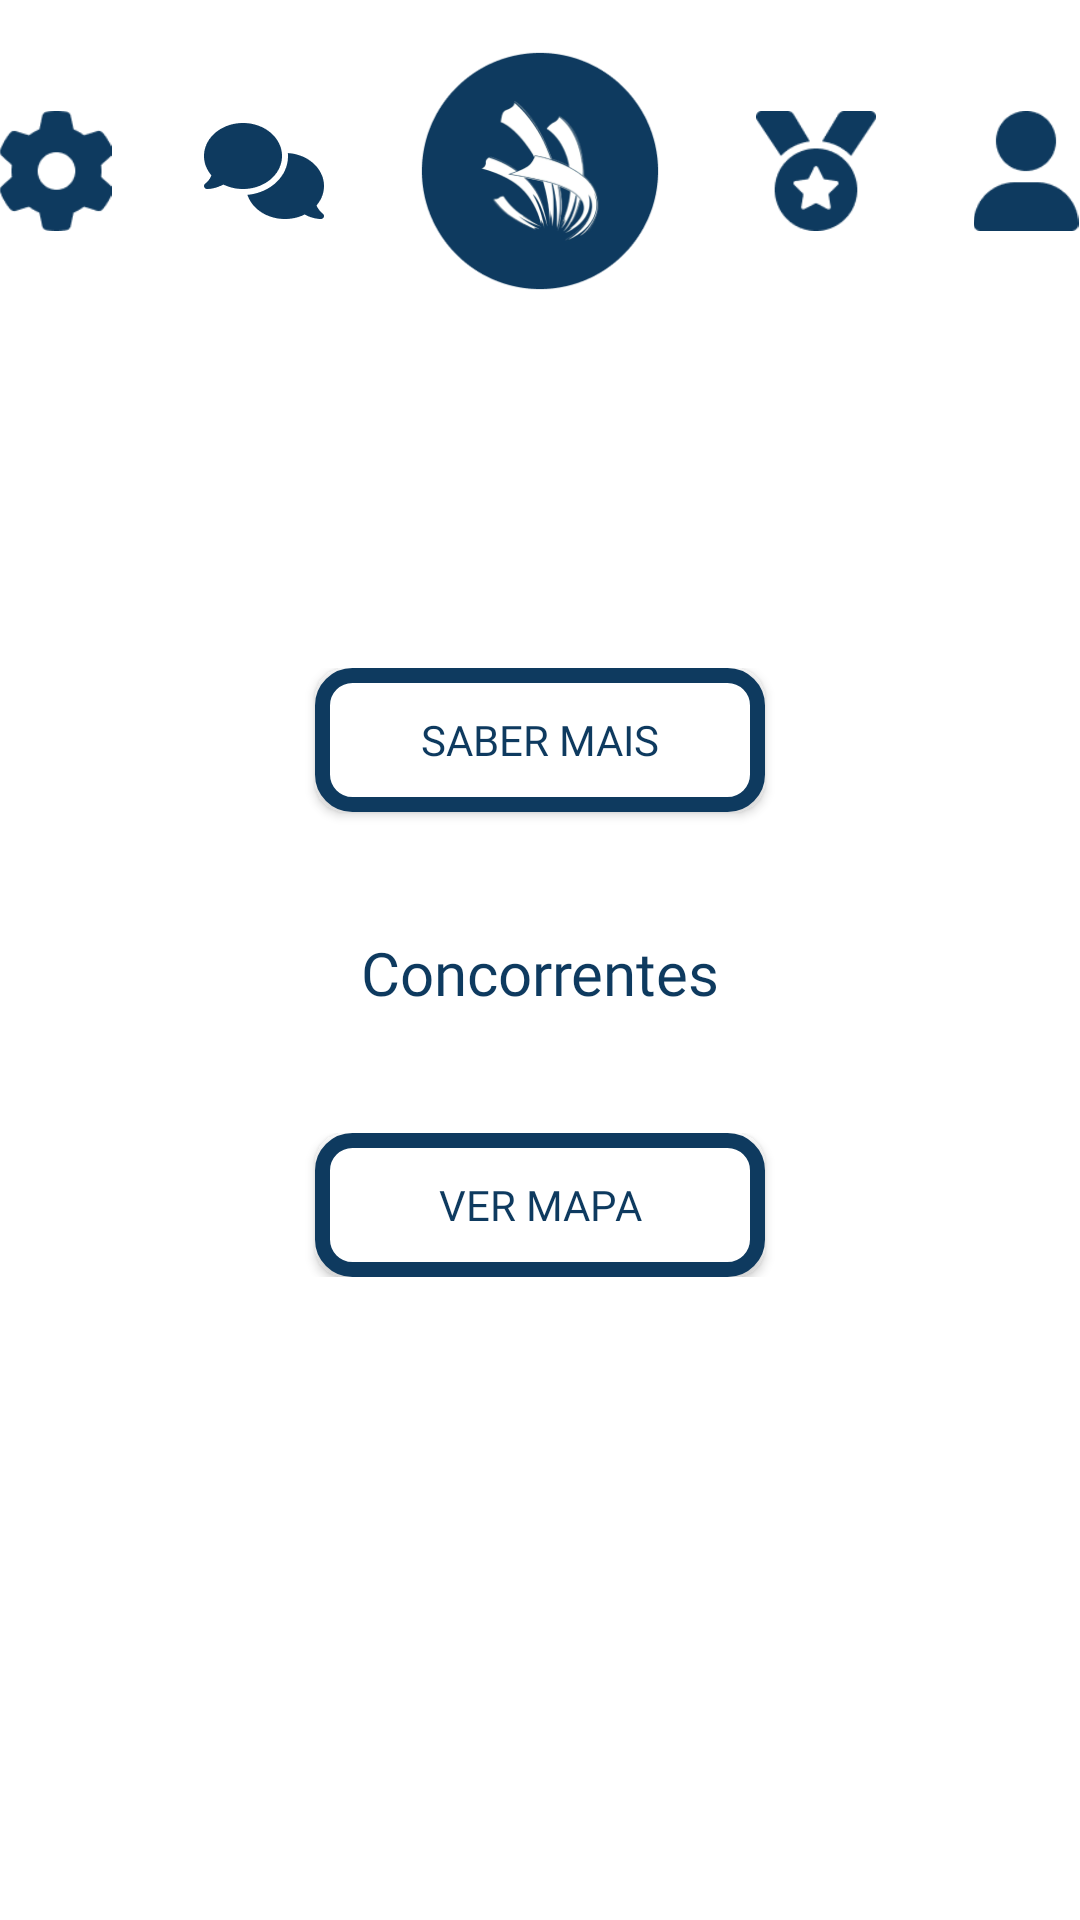

Where to tap for icons on this 1080px x 1920px app screen, as (x,y):
badges: (816,171)
chat: (264,171)
settings: (56,171)
user: (1026,171)
